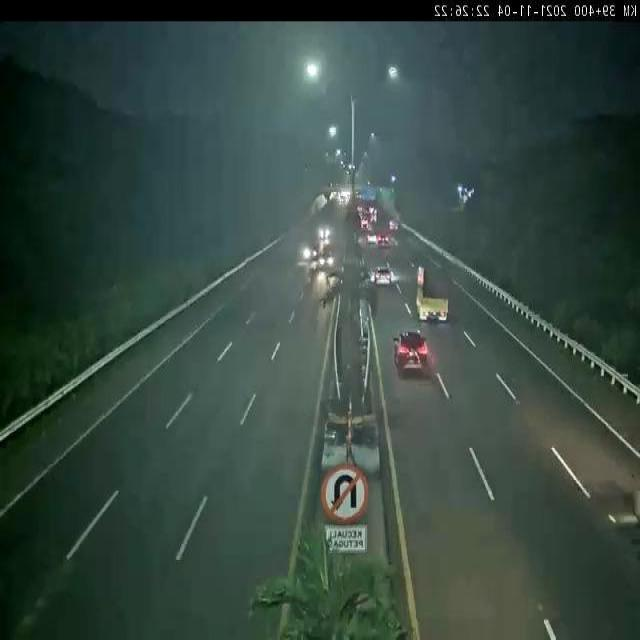Car: (392, 332, 432, 373), (316, 245, 335, 272), (373, 264, 392, 290), (298, 243, 318, 266), (315, 222, 332, 244), (378, 233, 392, 250), (367, 229, 376, 244)
Truck: (408, 262, 456, 323)
